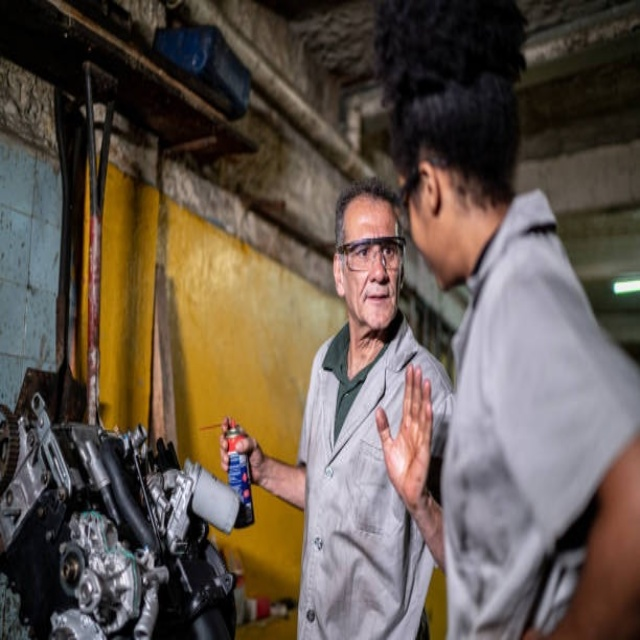Gafas: (337, 235, 406, 271), (398, 162, 437, 213)
Sin_guantes: (376, 361, 436, 513), (219, 417, 259, 478)
Sin_mascara: (360, 284, 393, 323)
